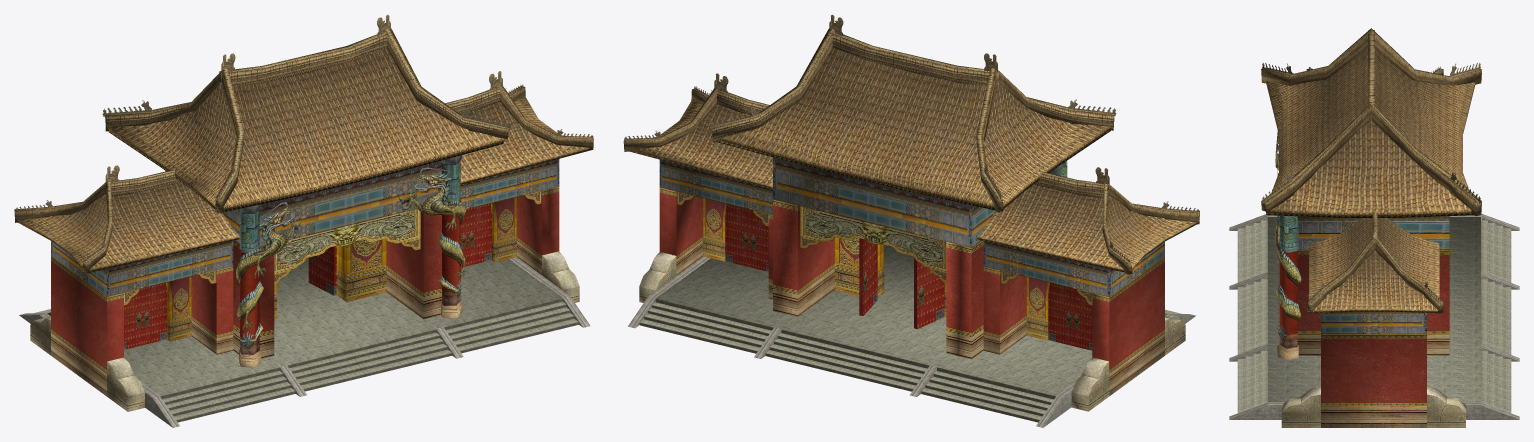
Rendered from cj_pal_indoor.glb.
3 renders of one model, left to right at view 1: azimuth 30°, elevation 25°; view 2: azimuth 150°, elevation 25°; view 3: azimuth 270°, elevation 25°, orthographic. The views are drawn at different scales.
Visible parts, largest first — view 1: CJ_pal_indoor_roof01, CJ_pal_indoor_wall01, CJ_pal_indoor_floor01, CJ_pal_indoor_fillar02, CJ_pal_indoor_floor02, CJ_pal_indoor_roof02_al, CJ_pal_indoor_pillar, CJ_pal_indoor_floor03, CJ_pal_indoor_door05, CJ_pal_indoor_door03, CJ_pal_indoor_door01, CJ_pal_indoor_roof03_al (+1 smaller); view 2: CJ_pal_indoor_roof01, CJ_pal_indoor_wall01, CJ_pal_indoor_floor01, CJ_pal_indoor_fillar02, CJ_pal_indoor_floor02, CJ_pal_indoor_roof02_al, CJ_pal_indoor_floor03, CJ_pal_indoor_door, CJ_pal_indoor_door05, CJ_pal_indoor_door03, CJ_pal_indoor_door01, CJ_pal_indoor_door02 (+2 smaller); view 3: CJ_pal_indoor_roof01, CJ_pal_indoor_wall01, CJ_pal_indoor_floor02, CJ_pal_indoor_floor01, CJ_pal_indoor_fillar02, CJ_pal_indoor_floor03, CJ_pal_indoor_pillar, CJ_pal_indoor_roof02_al, CJ_pal_indoor_roof03_al.
Part boxes in pixels (<box>): CJ_pal_indoor_roof01: <box>14,28,593,273</box>; CJ_pal_indoor_wall01: <box>30,186,579,411</box>; CJ_pal_indoor_floor01: <box>47,258,562,396</box>; CJ_pal_indoor_fillar02: <box>51,155,559,296</box>; CJ_pal_indoor_floor02: <box>34,299,578,422</box>; CJ_pal_indoor_roof02_al: <box>105,14,541,349</box>; CJ_pal_indoor_pillar: <box>240,160,460,355</box>; CJ_pal_indoor_floor03: <box>19,257,590,427</box>; CJ_pal_indoor_door05: <box>467,203,491,265</box>; CJ_pal_indoor_door03: <box>143,282,167,344</box>; CJ_pal_indoor_door01: <box>308,246,336,295</box>; CJ_pal_indoor_roof03_al: <box>16,84,593,261</box>; CJ_pal_indoor_roof01: <box>623,28,1199,274</box>; CJ_pal_indoor_wall01: <box>639,187,1185,411</box>; CJ_pal_indoor_floor01: <box>655,244,1167,395</box>; CJ_pal_indoor_fillar02: <box>659,157,1164,297</box>; CJ_pal_indoor_floor02: <box>639,244,1181,422</box>; CJ_pal_indoor_roof02_al: <box>677,14,1109,305</box>; CJ_pal_indoor_floor03: <box>628,245,1195,427</box>; CJ_pal_indoor_door: <box>914,258,944,329</box>; CJ_pal_indoor_door05: <box>725,204,749,266</box>; CJ_pal_indoor_door03: <box>1048,283,1072,345</box>; CJ_pal_indoor_door01: <box>859,238,877,315</box>; CJ_pal_indoor_door02: <box>1072,288,1092,350</box>; CJ_pal_indoor_roof01: <box>1261,28,1481,313</box>; CJ_pal_indoor_wall01: <box>1277,250,1465,427</box>; CJ_pal_indoor_floor02: <box>1237,220,1511,412</box>; CJ_pal_indoor_floor01: <box>1267,217,1480,402</box>; CJ_pal_indoor_fillar02: <box>1297,216,1449,333</box>; CJ_pal_indoor_floor03: <box>1229,213,1519,419</box>; CJ_pal_indoor_pillar: <box>1279,215,1297,349</box>; CJ_pal_indoor_roof02_al: <box>1275,131,1301,342</box>; CJ_pal_indoor_roof03_al: <box>1262,63,1480,303</box>.
Bounding box in the file's own units: 27.66 × 14.87 × 14.45.
Materials: 15 (15 with a texture image).
